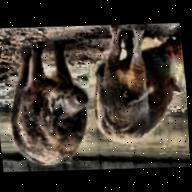boar: (85, 22, 187, 148), (2, 39, 94, 170)
